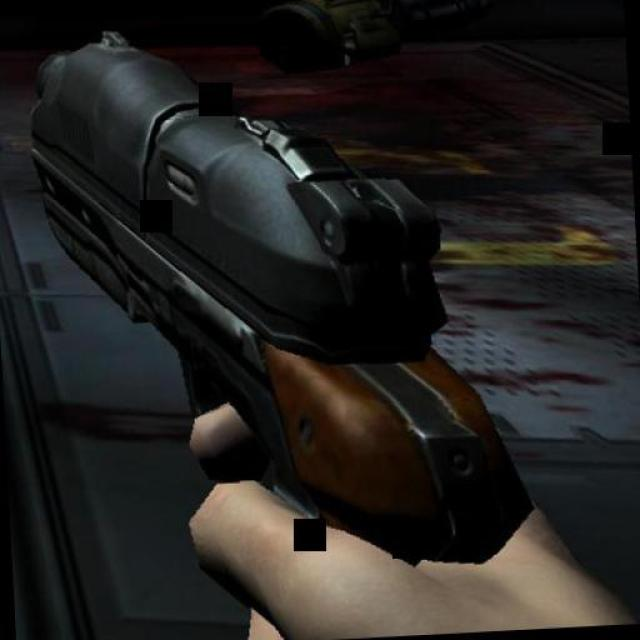gun: (0, 11, 552, 600)
